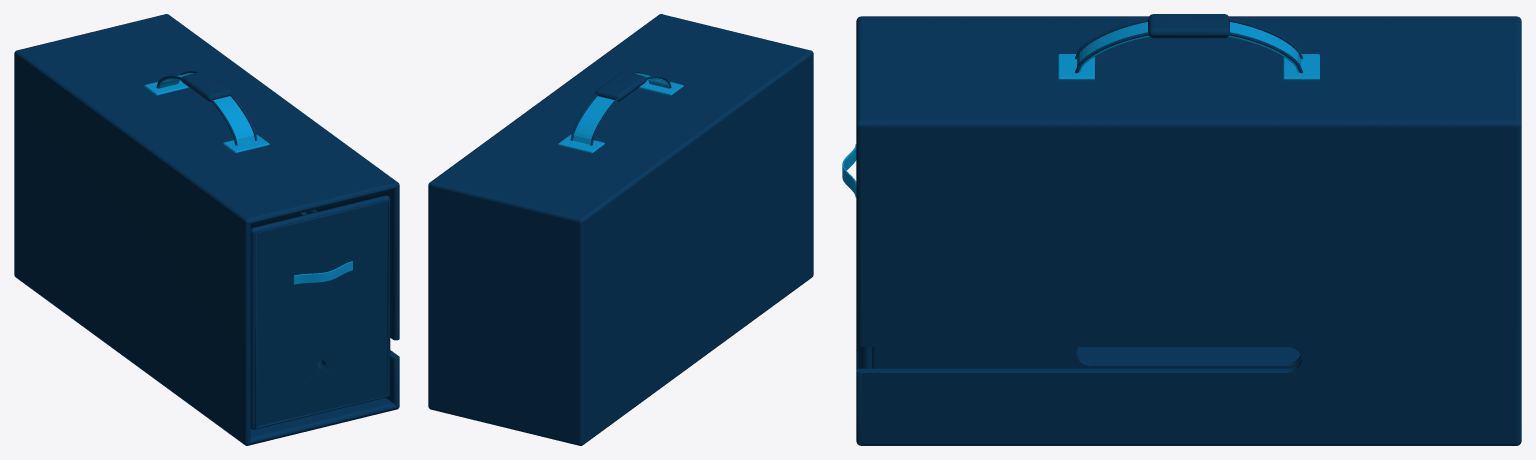
Rendered from belt-volume-5-storage.glb.
3 renders of one model, left to right at view 1: azimuth 30°, elevation 25°; view 2: azimuth 150°, elevation 25°; view 3: azimuth 270°, elevation 25°, orthographic. The views are drawn at different scales.
Parts seen in each view (by area): view 1: Cabinet_side, Cabinet_top, Drawer_front, Cabinet_side.001, Cabinet_bottom, Front_sewn_edge, Carry_handle_webbing, Carry_handle_padded_grip, Drawer_webbing_pull, Cabinet_back, Carry_handle_anchor; view 2: Cabinet_side, Cabinet_back, Cabinet_top, Carry_handle_webbing, Carry_handle_padded_grip, Cabinet_side.001, Carry_handle_anchor.001; view 3: Cabinet_side.001, Cabinet_top, Drawer_side.001, Cabinet_bottom, Carry_handle_padded_grip, Cabinet_back, Carry_handle_webbing, Carry_handle_anchor, Carry_handle_anchor.001, Carry_handle_binding.001.
Boxes of the visible parts, bbox=[...] form: Cabinet_side: bbox=[15, 50, 250, 445]; Cabinet_top: bbox=[15, 14, 397, 224]; Drawer_front: bbox=[250, 195, 390, 429]; Cabinet_side.001: bbox=[166, 14, 399, 409]; Cabinet_bottom: bbox=[15, 275, 397, 445]; Front_sewn_edge: bbox=[255, 200, 389, 428]; Carry_handle_webbing: bbox=[158, 73, 254, 144]; Carry_handle_padded_grip: bbox=[181, 71, 232, 101]; Drawer_webbing_pull: bbox=[293, 261, 352, 284]; Cabinet_back: bbox=[14, 14, 166, 275]; Carry_handle_anchor: bbox=[223, 134, 269, 153]; Cabinet_side: bbox=[579, 50, 813, 445]; Cabinet_back: bbox=[428, 182, 583, 445]; Cabinet_top: bbox=[432, 14, 812, 218]; Carry_handle_webbing: bbox=[573, 73, 669, 144]; Carry_handle_padded_grip: bbox=[595, 71, 646, 101]; Cabinet_side.001: bbox=[428, 14, 661, 409]; Carry_handle_anchor.001: bbox=[558, 134, 604, 153]; Cabinet_side.001: bbox=[856, 120, 1521, 445]; Cabinet_top: bbox=[856, 17, 1516, 128]; Drawer_side.001: bbox=[872, 347, 1301, 368]; Cabinet_bottom: bbox=[856, 345, 1515, 442]; Carry_handle_padded_grip: bbox=[1148, 14, 1229, 38]; Cabinet_back: bbox=[1516, 16, 1521, 445]; Carry_handle_webbing: bbox=[1077, 22, 1300, 72]; Carry_handle_anchor: bbox=[1058, 54, 1094, 80]; Carry_handle_anchor.001: bbox=[1283, 54, 1319, 80]; Carry_handle_binding.001: bbox=[1075, 32, 1302, 73].
Size of what is drawn, in the model's own units: 0.127 by 0.204 by 0.3372.
Materials: 3 (3 with a texture image).
